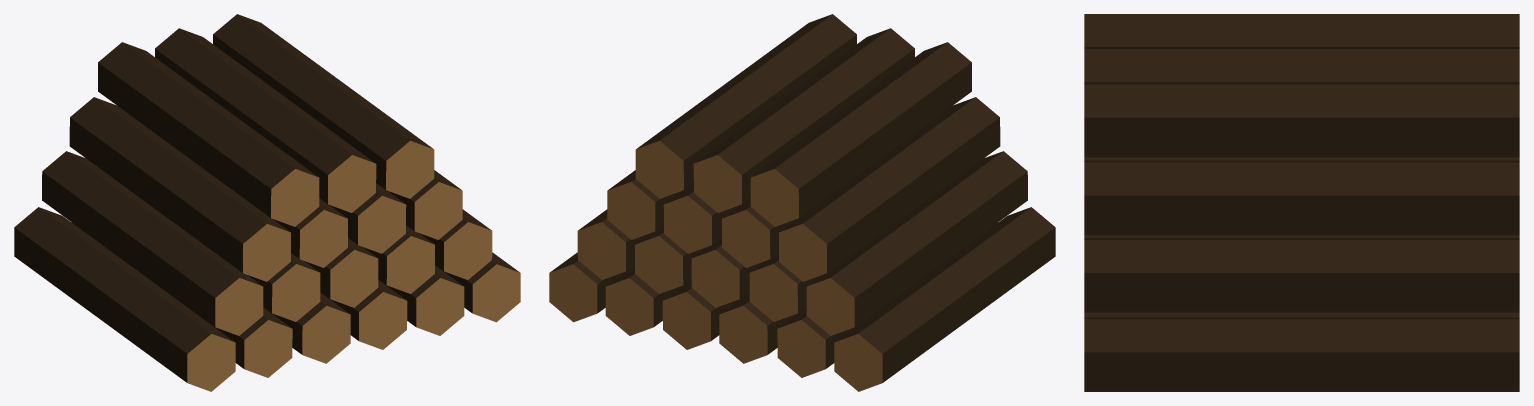
The model's file is houzbigi.fbx.
3 views of the same model, side by side, from view 1: azimuth 30°, elevation 25°; view 2: azimuth 150°, elevation 25°; view 3: azimuth 270°, elevation 25° (orthographic). The views are drawn at different scales.
Visible parts, largest first — view 1: Houzbigi_1; view 2: Houzbigi_1; view 3: Houzbigi_1.
Part boxes in pixels (x1,y1,x2,y2): Houzbigi_1: (14,14,520,391); Houzbigi_1: (549,14,1055,391); Houzbigi_1: (1084,14,1519,391).
Bounding box in the file's own units: 0.4903 × 0.2849 × 0.441.
